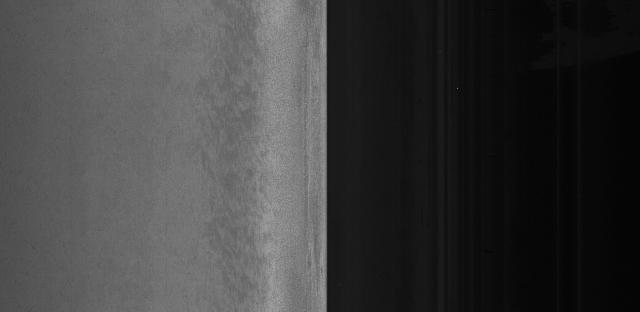silk_spot: (212, 123, 282, 235)
